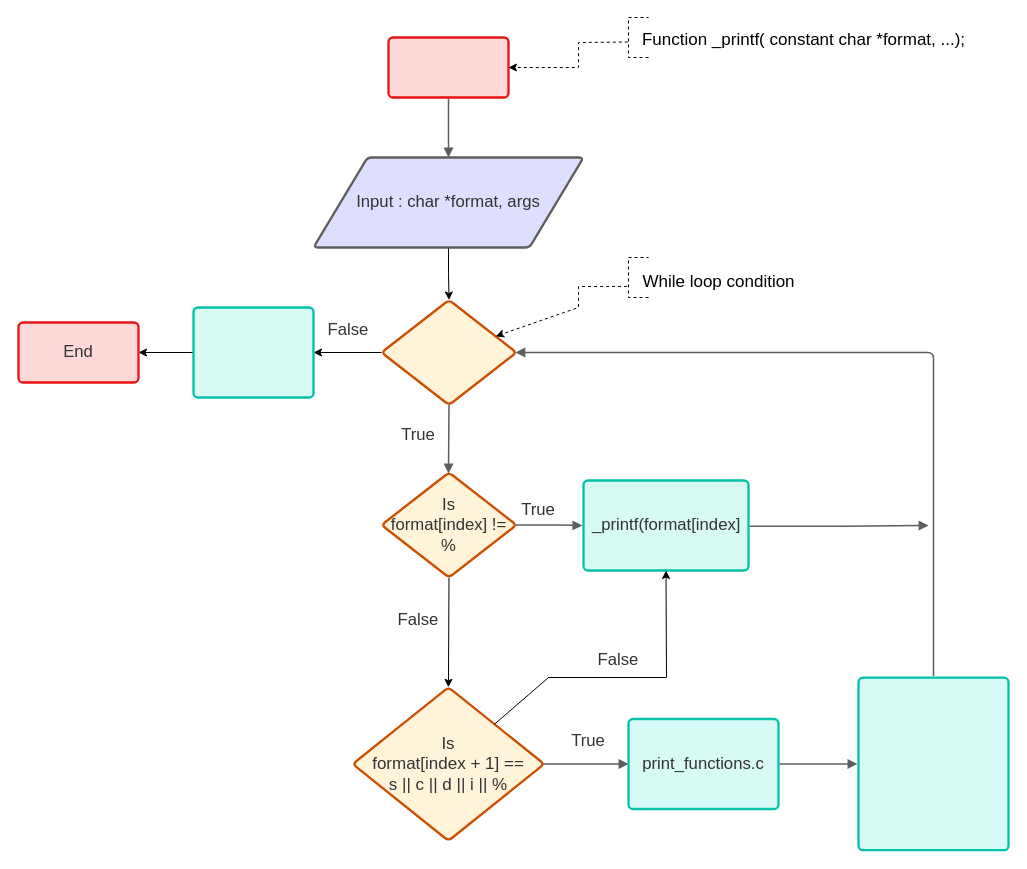
Some shapes in this 1027 by 869 pixel diagram are drawn without their labels. The shapes that lost their labels are listed below. From the top down, each one's centre as x and y in pixels, then its label:
At [448,67]: "Start".
At [253,352]: "Return (- 1)".
At [448,352]: "Is format[index] != '\0'".
At [933,763]: "print_char print_string print_decimal print_integer print_modulo".
